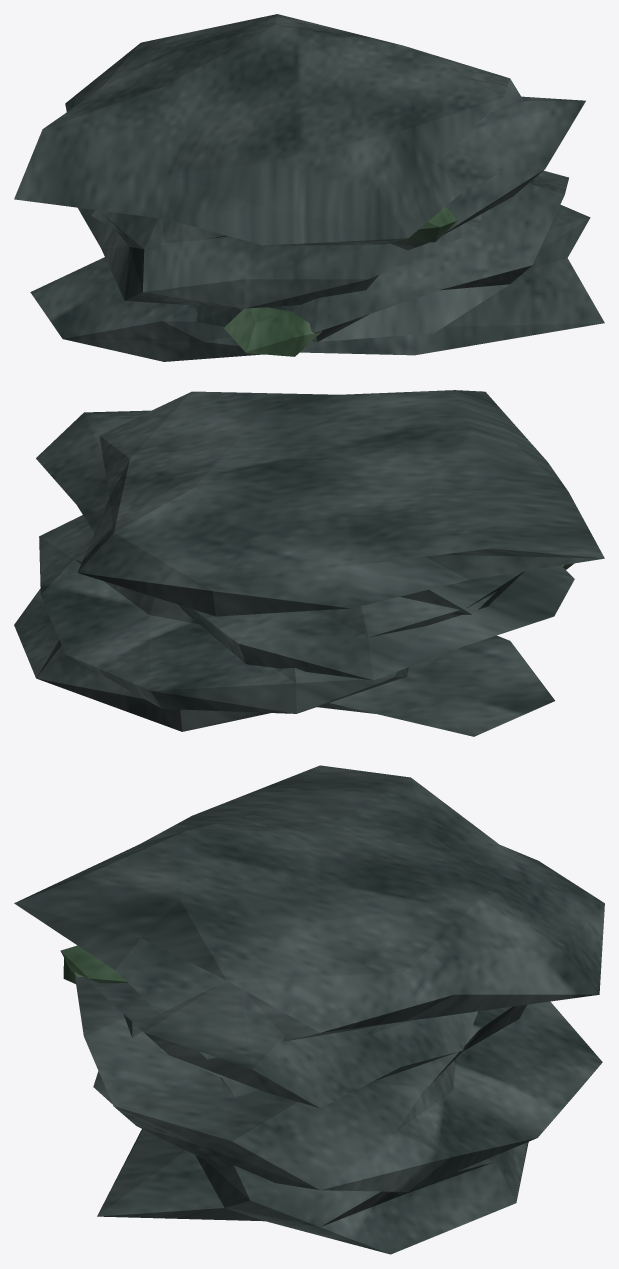
The model's file is 0039_layered_rock_14.glb.
3 views of the same model, one above another, from view 1: azimuth 30°, elevation 25°; view 2: azimuth 150°, elevation 25°; view 3: azimuth 270°, elevation 25° (orthographic). The views are drawn at different scales.
Visible parts, largest first — view 1: stone_dark, moss; view 2: stone_dark; view 3: stone_dark, moss.
Part boxes in pixels (<box>): stone_dark: <box>14,14,604,361</box>; moss: <box>224,206,457,356</box>; stone_dark: <box>14,390,604,736</box>; stone_dark: <box>14,765,604,1254</box>; moss: <box>60,945,127,983</box>.
Size of the model in its own units: 2.2 by 0.8659 by 1.83.
Materials: 2 (2 with a texture image).
